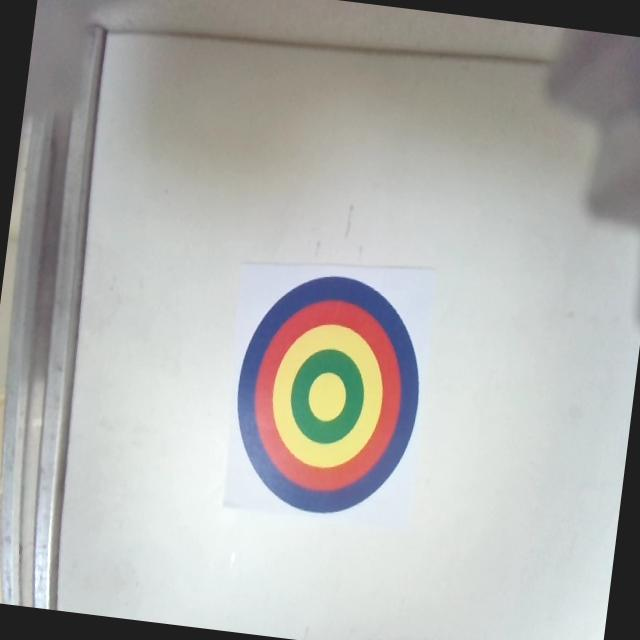cogn: (223, 263, 432, 522)
